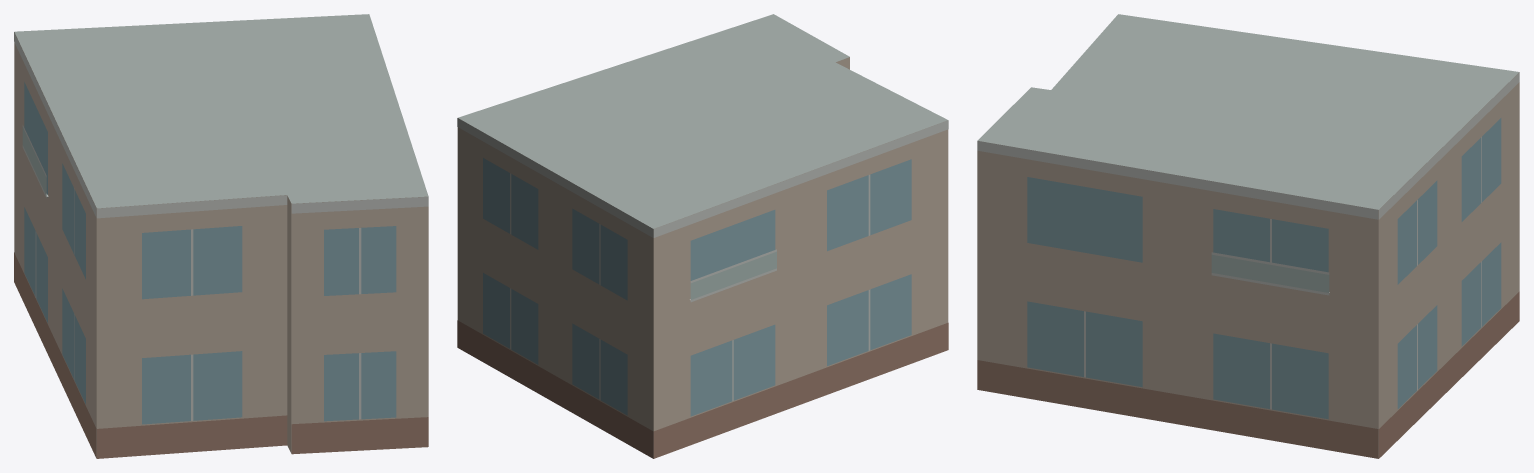
The model's file is survey-upis-32528262.glb.
3 views of the same model, side by side, from view 1: azimuth 30°, elevation 25°; view 2: azimuth 150°, elevation 25°; view 3: azimuth 270°, elevation 25° (orthographic). The views are drawn at different scales.
Visible parts, largest first — view 1: survey-upis-32528262.tmp; view 2: survey-upis-32528262.tmp; view 3: survey-upis-32528262.tmp.
Part boxes in pixels (x1,y1,x2,y2): survey-upis-32528262.tmp: (14, 14, 428, 458); survey-upis-32528262.tmp: (457, 14, 948, 458); survey-upis-32528262.tmp: (977, 14, 1519, 458).
Size of the model in its own units: 10.3 by 6.1 by 12.05.
